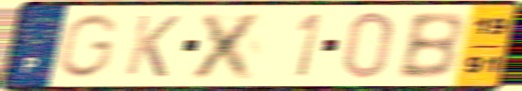0: (338, 10, 397, 82)
1: (294, 12, 325, 80)
B: (393, 10, 467, 82)
G: (53, 12, 123, 81)
K: (121, 12, 184, 80)
X: (185, 10, 271, 81)
